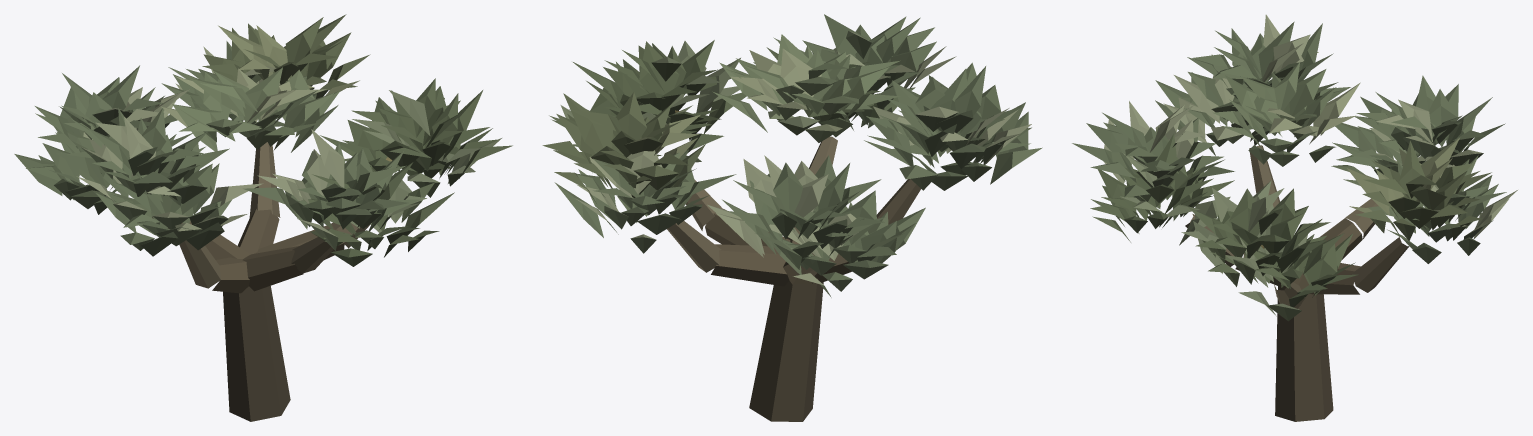
Rendered from olive.glb.
3 views of the same model, side by side, from view 1: azimuth 30°, elevation 25°; view 2: azimuth 150°, elevation 25°; view 3: azimuth 270°, elevation 25° (orthographic). The views are drawn at different scales.
Visible parts, largest first — view 1: olive; view 2: olive; view 3: olive.
Part boxes in pixels (left/top/right/bottom): olive: left=14, top=14, right=512, bottom=421; olive: left=542, top=14, right=1042, bottom=421; olive: left=1072, top=14, right=1517, bottom=421.
Size of the model in its own units: 1.15 by 0.8647 by 1.08.
